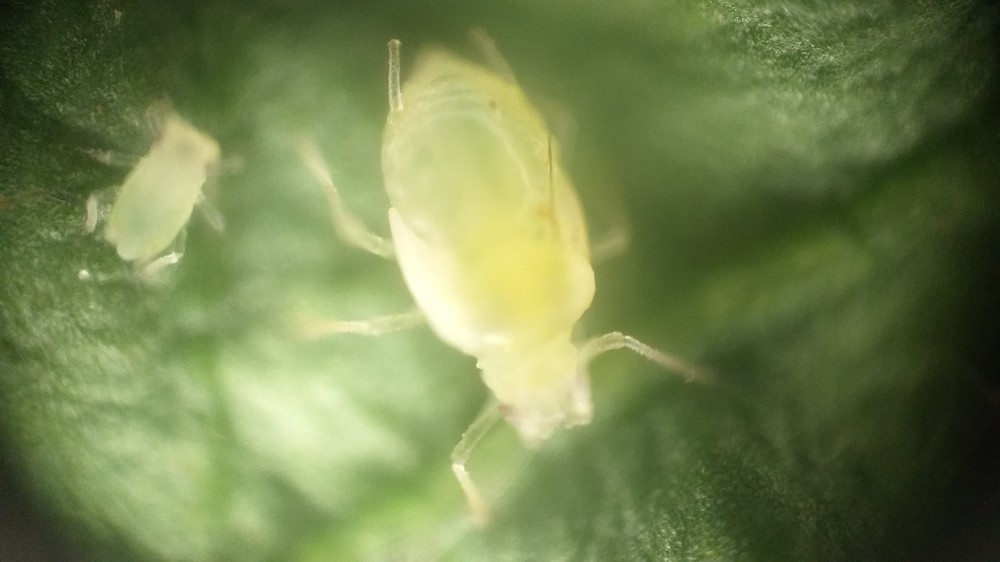Pulgon: (279, 19, 762, 543), (54, 86, 250, 284)
